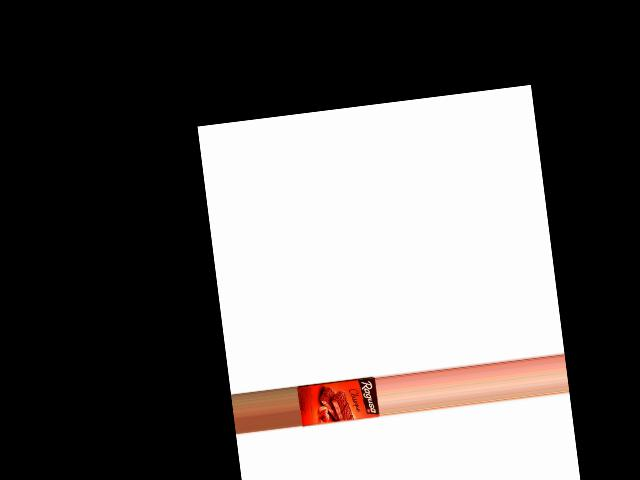chocolate: (296, 374, 379, 431)
